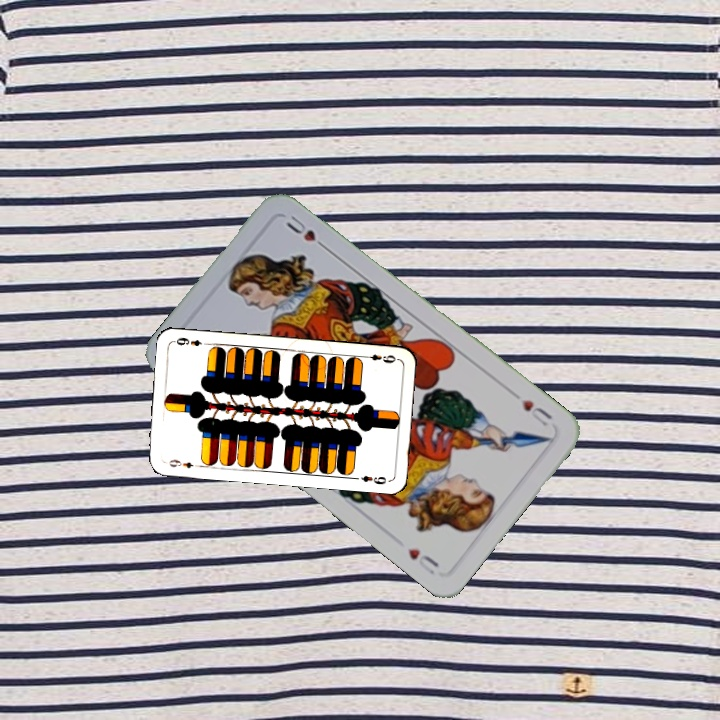E9: (360, 350, 398, 366), (165, 455, 196, 471)
HU: (517, 395, 556, 429)
